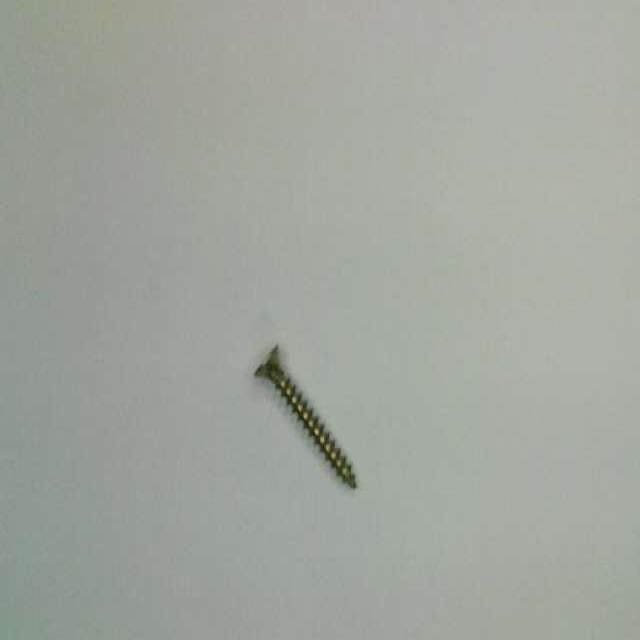Parafuso: (255, 345, 356, 487)
